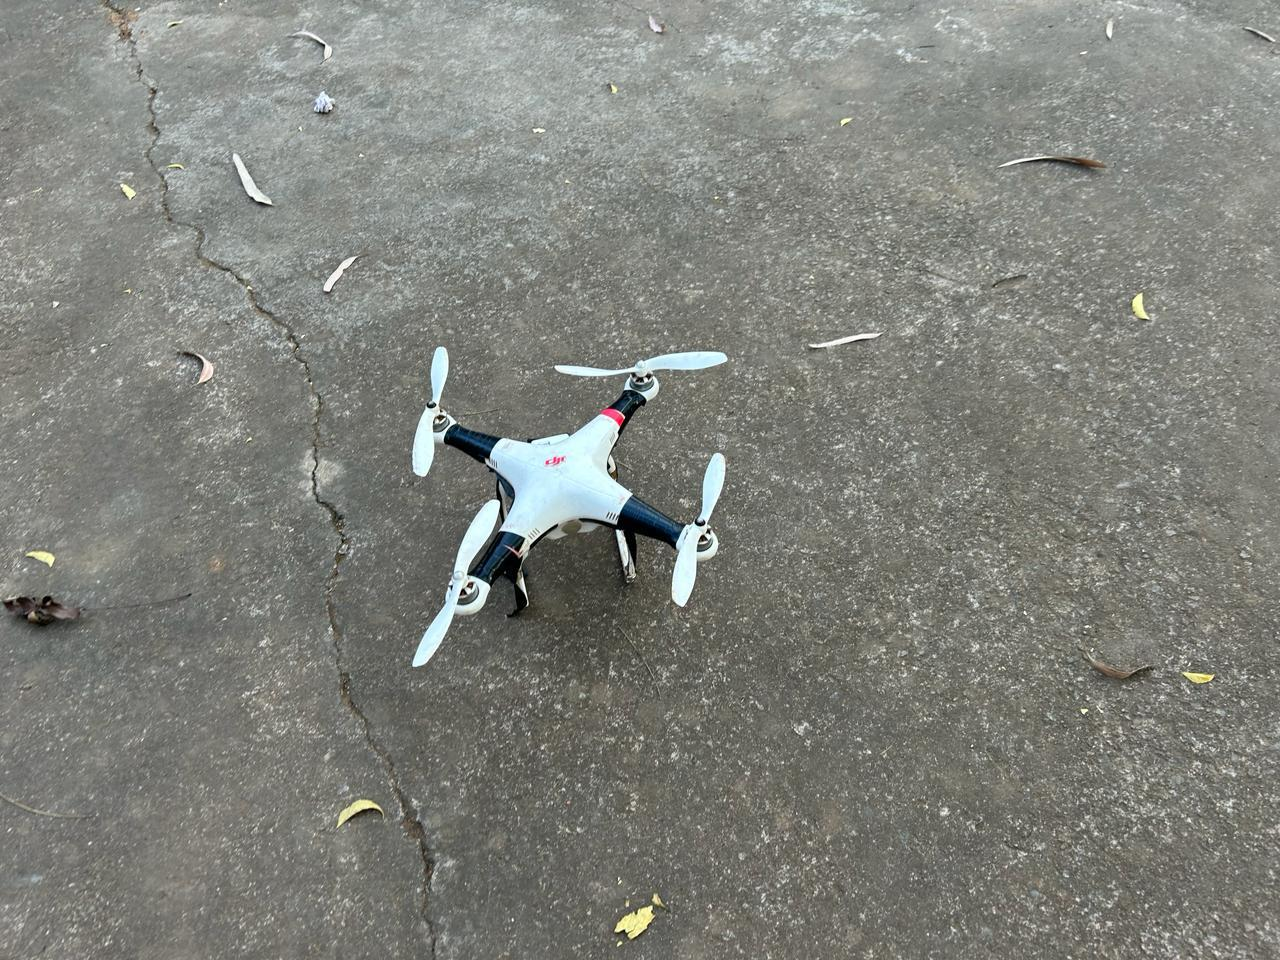drone: (339, 286, 841, 750)
